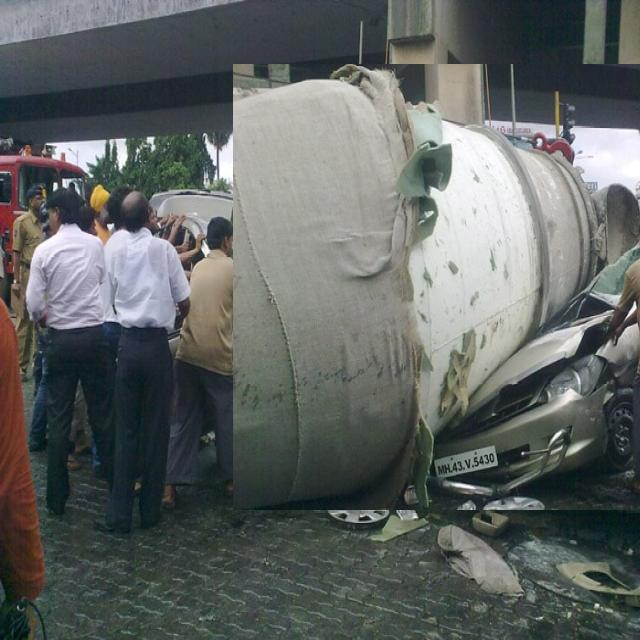accident: (233, 65, 640, 510), (233, 250, 442, 499)
